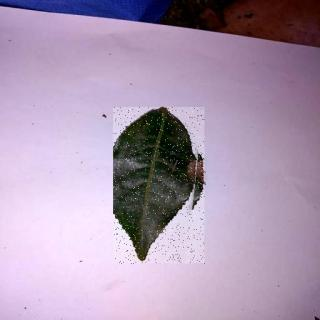Anthracnose: (115, 109, 207, 266)
